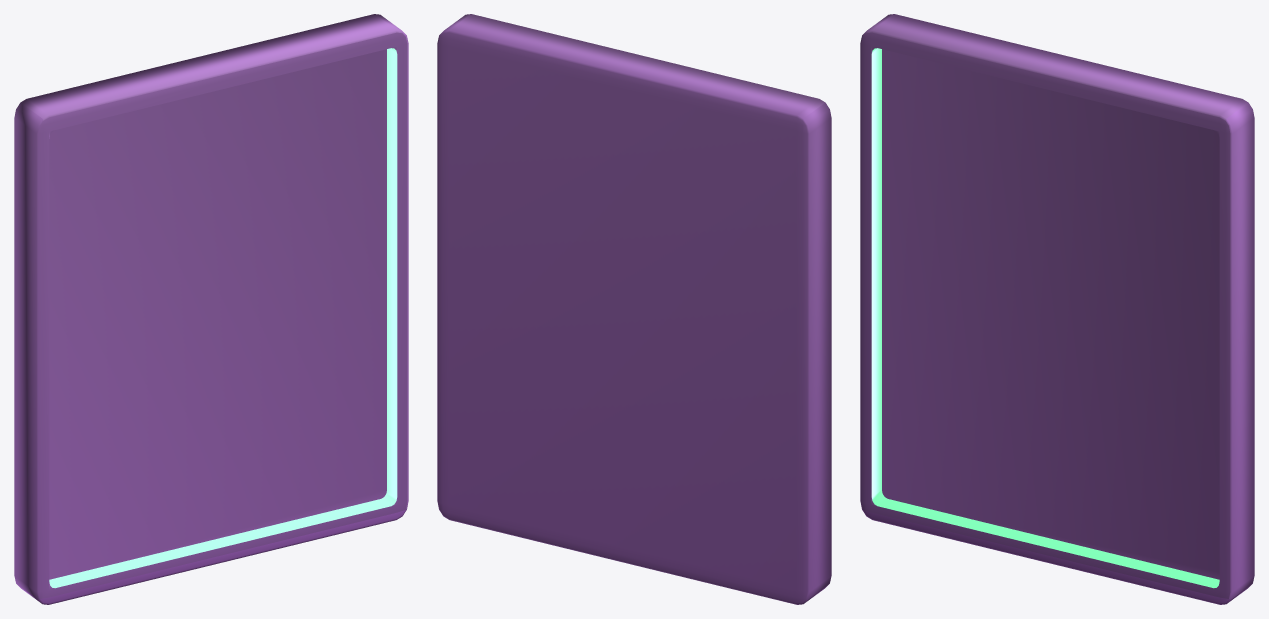
The model's file is leaderboard_frame.glb.
3 views of the same model, side by side, from view 1: azimuth 30°, elevation 25°; view 2: azimuth 150°, elevation 25°; view 3: azimuth 330°, elevation 25° (orthographic).
Visible parts, largest first — view 1: leaderboard; view 2: leaderboard; view 3: leaderboard.
Boxes of the visible parts, bbox=[...] form: leaderboard: bbox=[14, 14, 408, 604]; leaderboard: bbox=[437, 14, 831, 604]; leaderboard: bbox=[860, 14, 1254, 604].
Size of the model in its own units: 8.35 by 10.5 by 0.9216.
2 materials, 1 textured.
